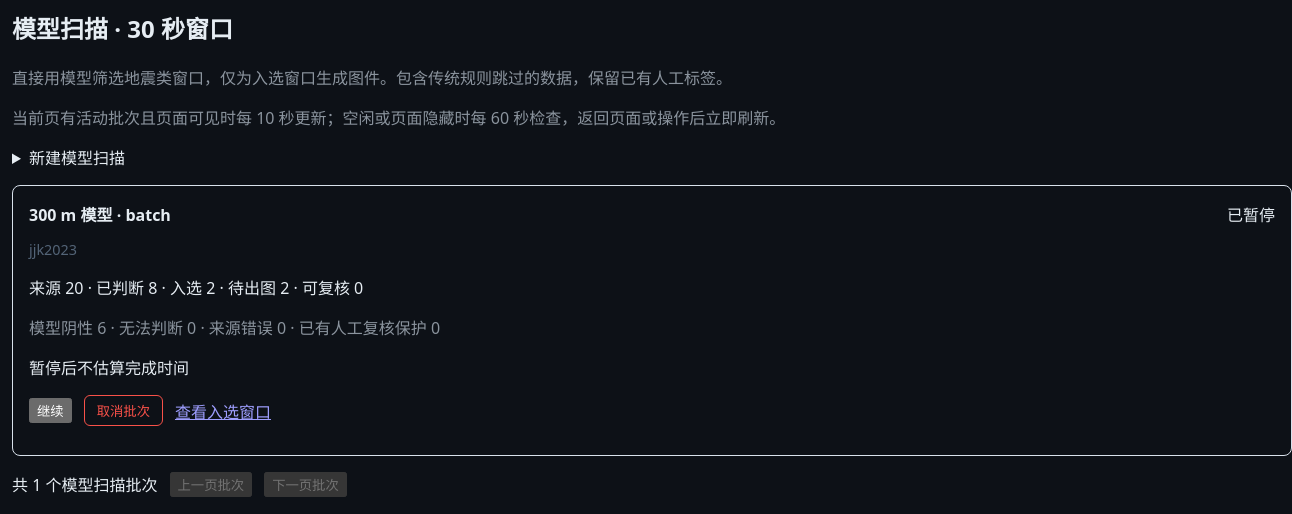
Test case: slows hidden scans and refreshes immediately on visibility and after an action
Expected: the text "已暂停" is shown, [1227, 202, 1275, 226]
Click the button "继续" at (50, 410), box [29, 398, 72, 423]
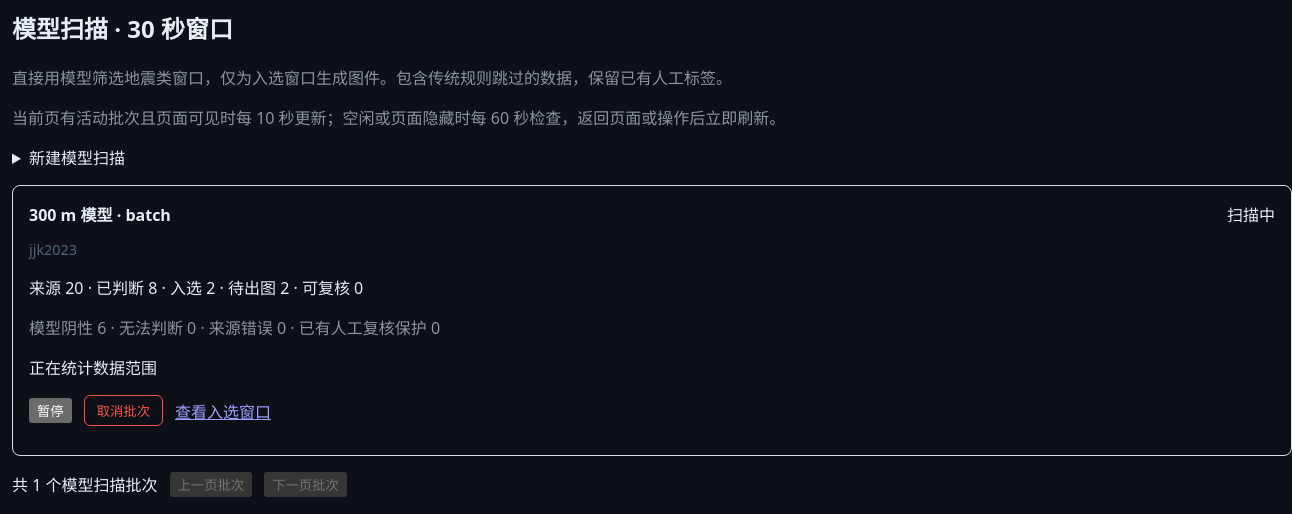
Expected: the text "扫描中" is shown, [1227, 202, 1275, 226]
